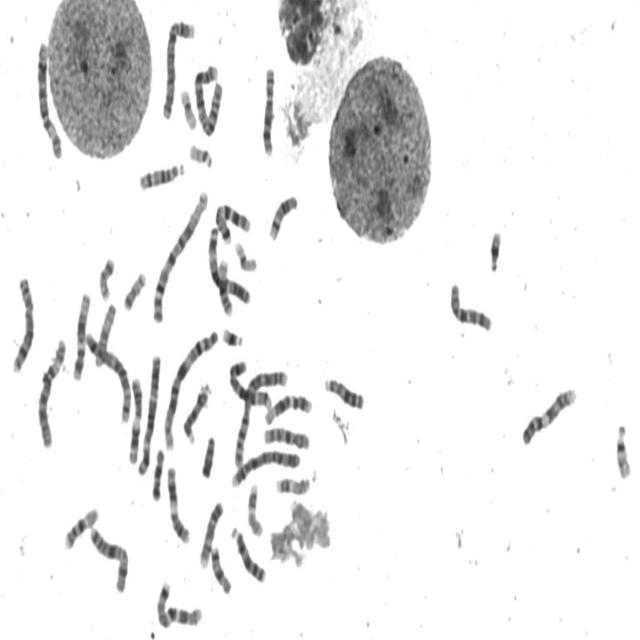A1: (149, 183, 210, 326), (161, 326, 219, 452)
A2: (232, 363, 288, 470), (192, 58, 224, 138)
A3: (205, 221, 252, 306), (135, 349, 162, 477)
B4: (158, 13, 196, 122), (229, 445, 301, 489)
B5: (82, 326, 132, 424), (226, 355, 273, 412)
C10: (447, 276, 494, 334), (261, 422, 311, 452)
C11: (164, 460, 191, 546), (125, 372, 144, 467)
C12: (70, 286, 92, 382), (261, 388, 313, 427)
C6: (32, 35, 64, 161), (34, 332, 68, 450)
C7: (154, 575, 204, 630), (213, 196, 252, 246)
C8: (9, 270, 36, 376), (259, 61, 277, 159)
C9: (519, 380, 578, 448), (196, 496, 225, 570)
D13: (228, 522, 268, 585), (322, 371, 365, 412)
D14: (136, 156, 186, 193), (266, 189, 299, 242)
D15: (180, 380, 212, 446), (91, 298, 118, 370)
E16: (61, 502, 100, 552), (216, 253, 234, 317)
E17: (245, 477, 264, 539), (273, 472, 311, 496)
E18: (208, 540, 233, 596), (149, 444, 165, 502)
F19: (232, 234, 258, 274), (177, 83, 198, 131)
F20: (120, 266, 148, 313), (96, 251, 116, 302)
G21: (486, 224, 503, 274), (219, 322, 245, 349)
G22: (613, 418, 633, 481), (186, 138, 213, 169)
X: (87, 520, 130, 595)
Y: (198, 431, 216, 480)
